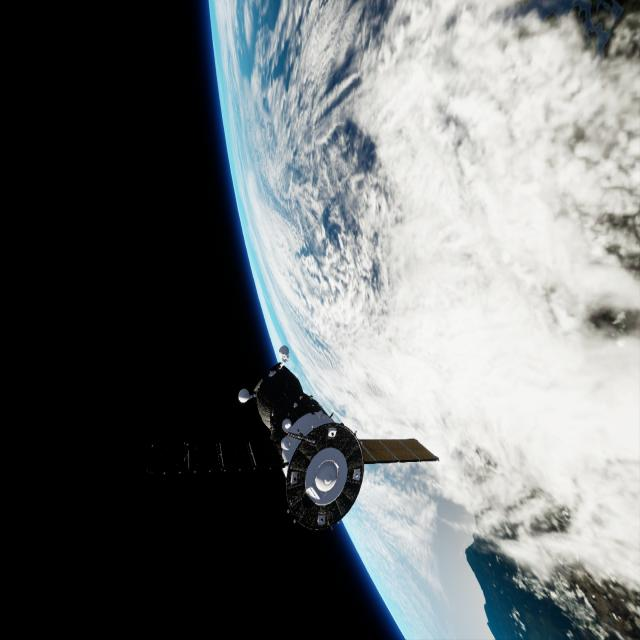Satellites revolving around earth: (236, 343, 440, 535)
